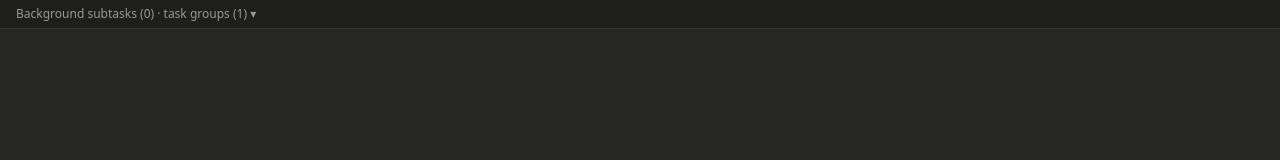
Test: delivery authorization mobile=false › requires confirmation and supports revocation
The image size is (1280, 160).
Later steps or results of the test are not shown.
Click the button "Background subtasks (0) · task groups (1) ▾" at point(136, 14), box [16,6,256,22]
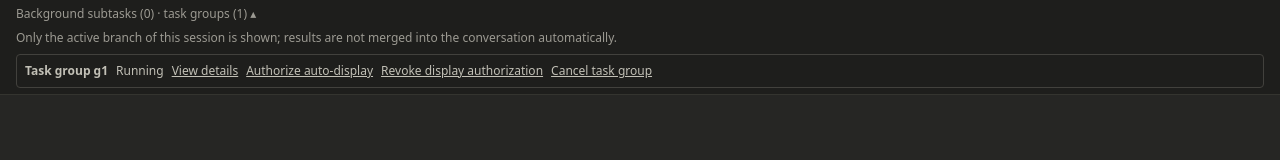
Click the button "Authorize auto-display" at point(310, 71), box [246,63,373,79]
Click the button "Authorize auto-display" at point(310, 71), box [246,63,373,79]
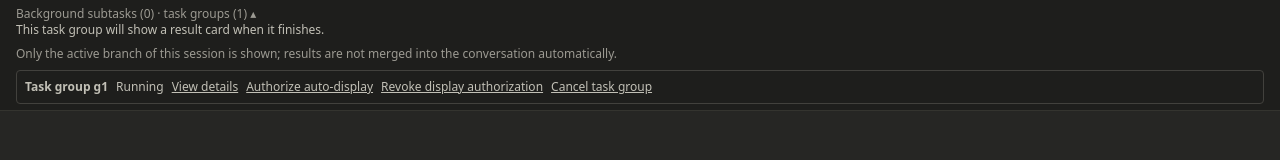
Check: the text "This task group will show a result card when it finishes." is shown, box [16,21,324,38]
